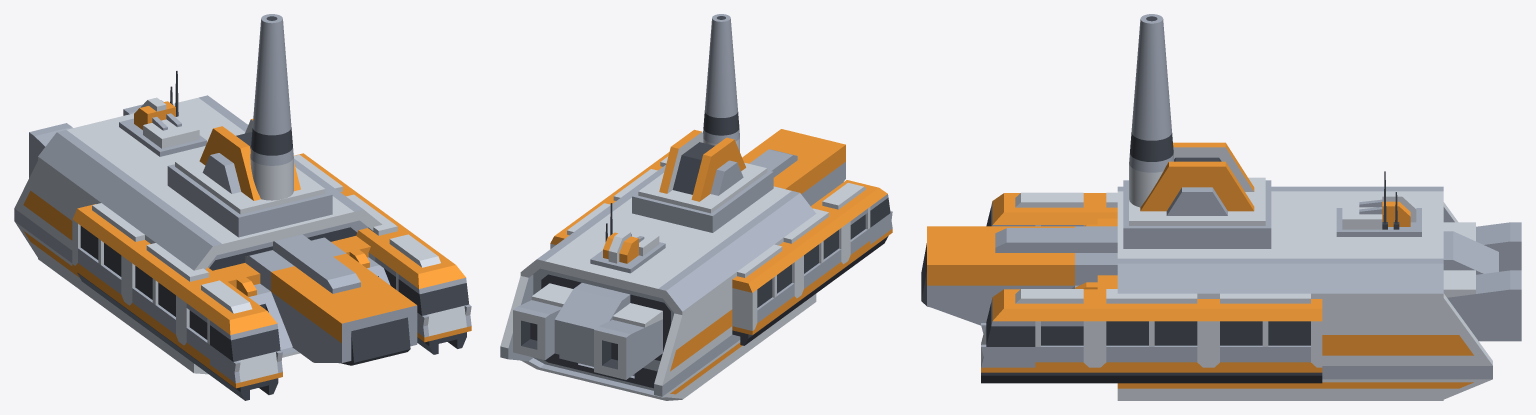
Rendered from cargo_leger_1.glb.
3 views of the same model, side by side, from view 1: azimuth 30°, elevation 25°; view 2: azimuth 150°, elevation 25°; view 3: azimuth 270°, elevation 25° (orthographic). The views are drawn at different scales.
Parts seen in each view (by area): view 1: mergedBlocks(Clone); view 2: mergedBlocks(Clone); view 3: mergedBlocks(Clone).
Part boxes in pixels (<box>): mergedBlocks(Clone): <box>14,14,471,400</box>; mergedBlocks(Clone): <box>500,14,892,400</box>; mergedBlocks(Clone): <box>921,14,1521,400</box>.
Size of the model in its own units: 2.5 by 3.3 by 5.28.
1 material, 1 textured.
